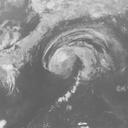cyclone: (41, 28, 117, 81)
